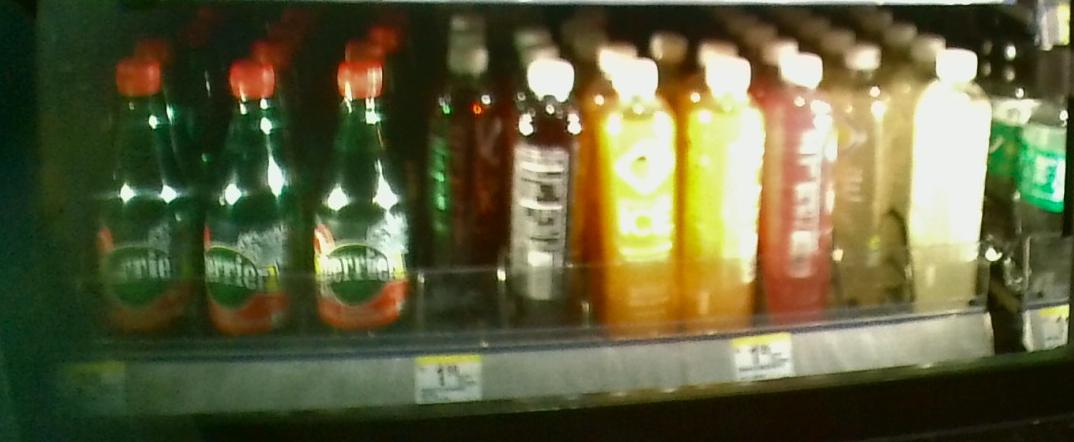bottle: (310, 58, 415, 357), (201, 58, 298, 350), (95, 57, 190, 346), (592, 51, 677, 332), (913, 39, 997, 301), (425, 44, 502, 318), (686, 49, 762, 326), (511, 57, 582, 318), (772, 53, 839, 318), (844, 38, 902, 314)
